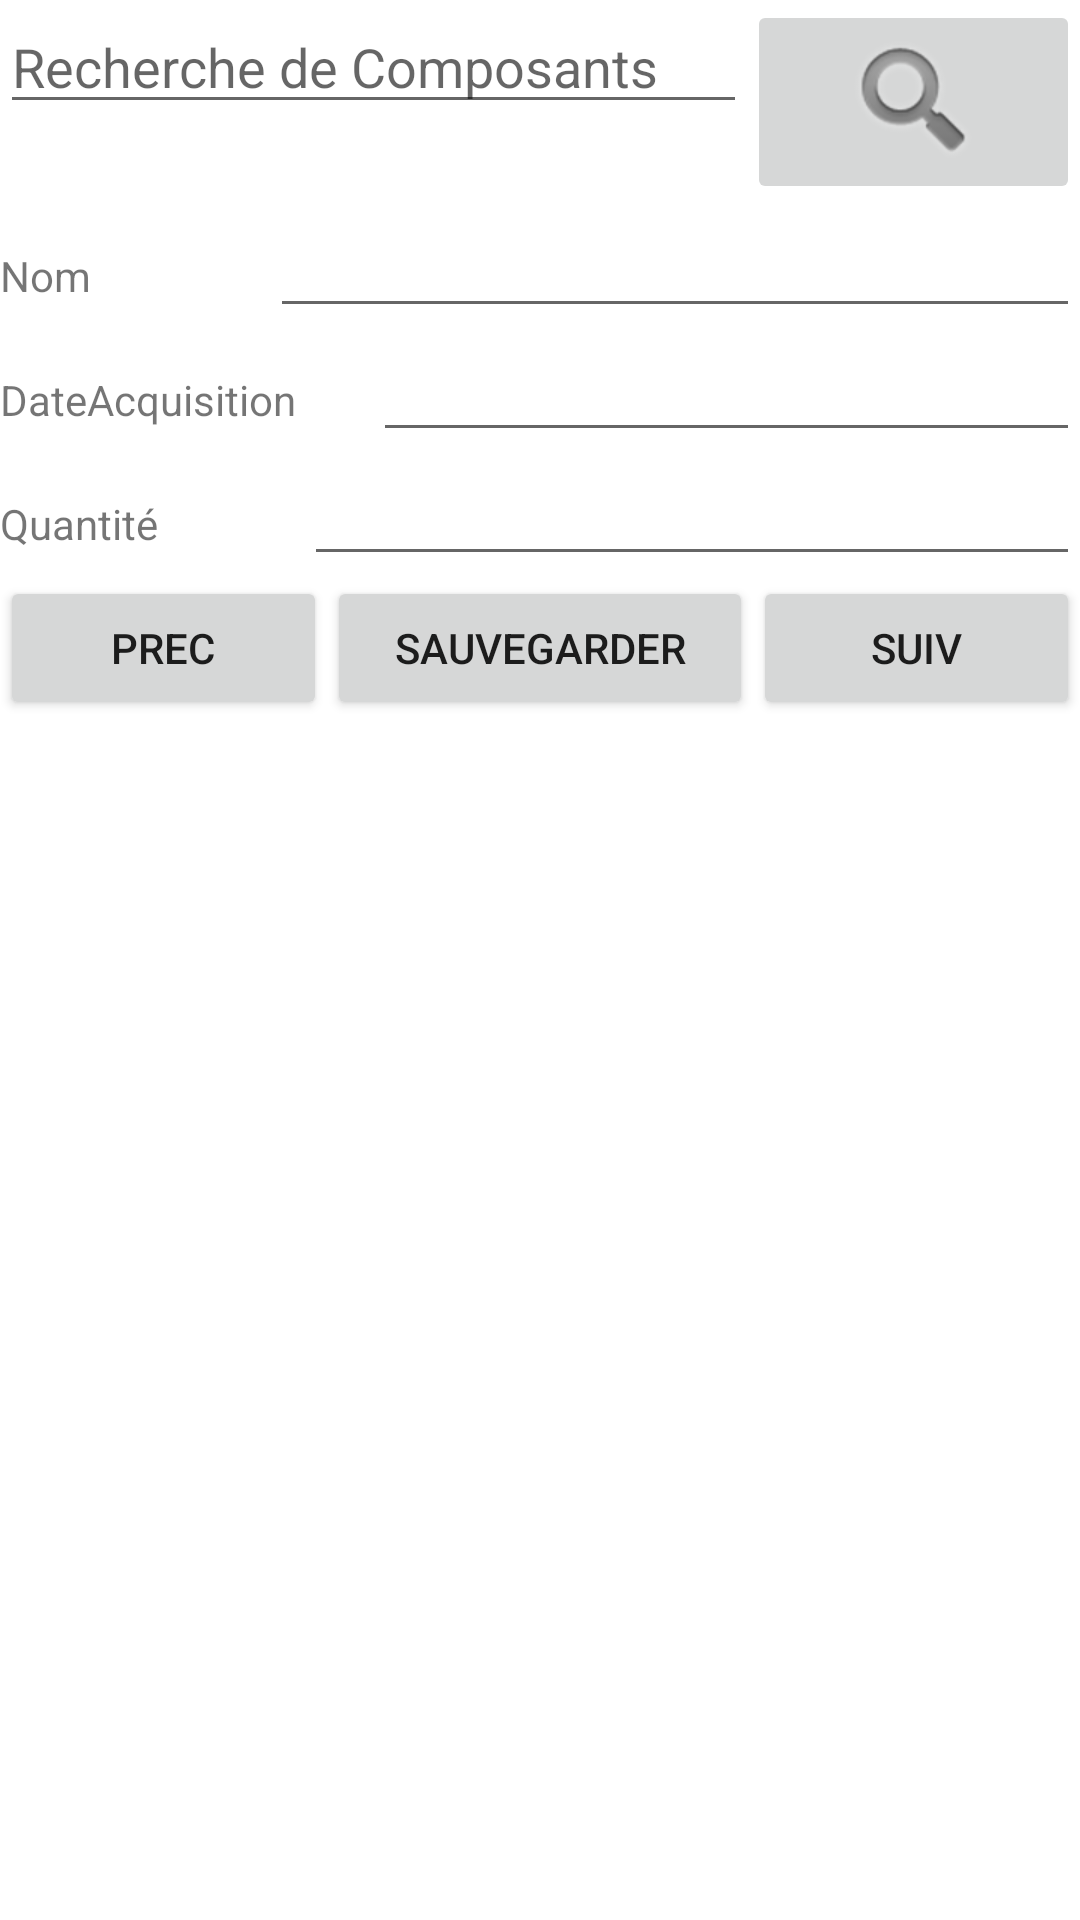

Where to tap for icons on this 1080 × 1920 app screen, as (x,y):
search category: (913,102)
